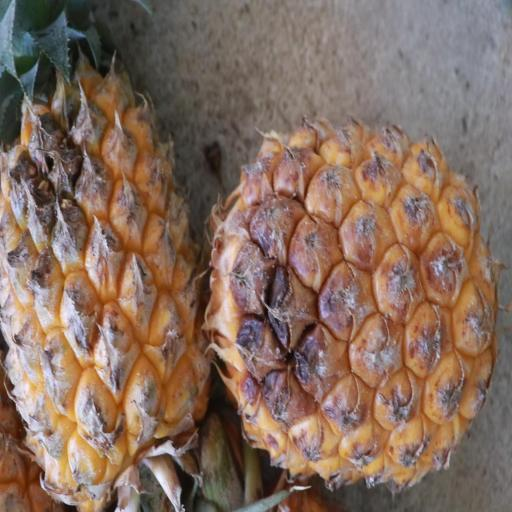Pineapple - v8 v1: (204, 121, 499, 490), (0, 4, 211, 512)
